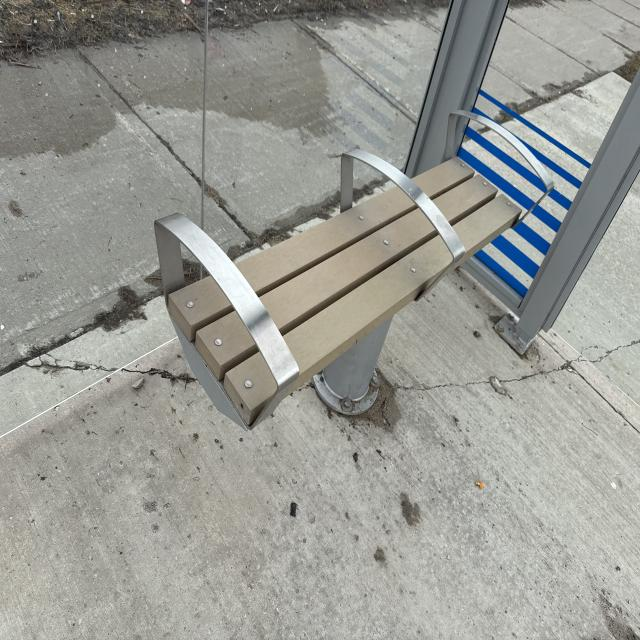Bench: (155, 132, 525, 401)
